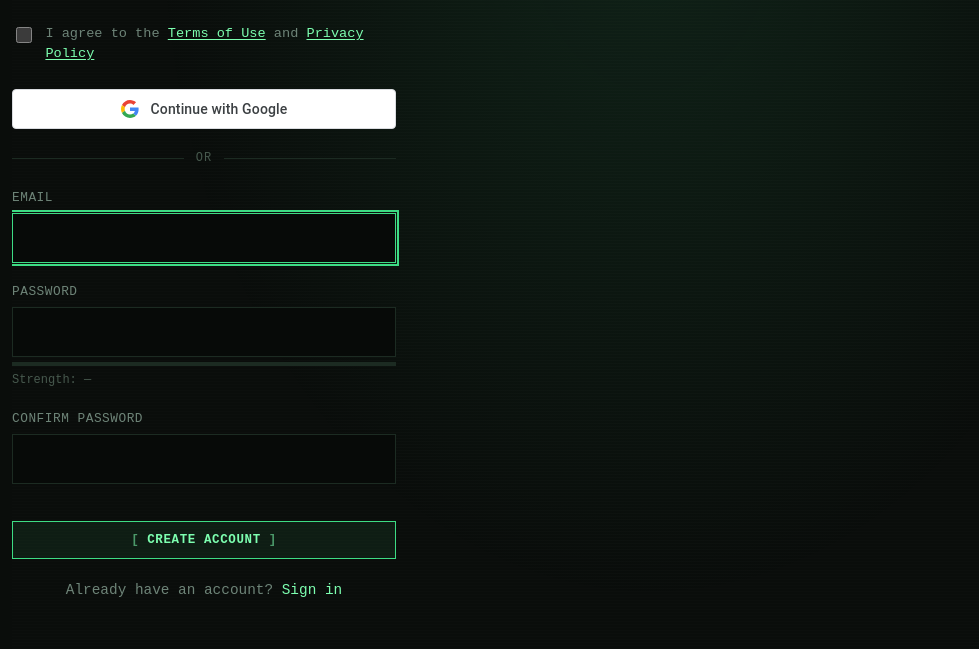
Test: AuthForm validation › blocks signup without terms acceptance
In the field labelled "Email": coordinates (204, 238) [12,213,396,262], type "user@example.com"
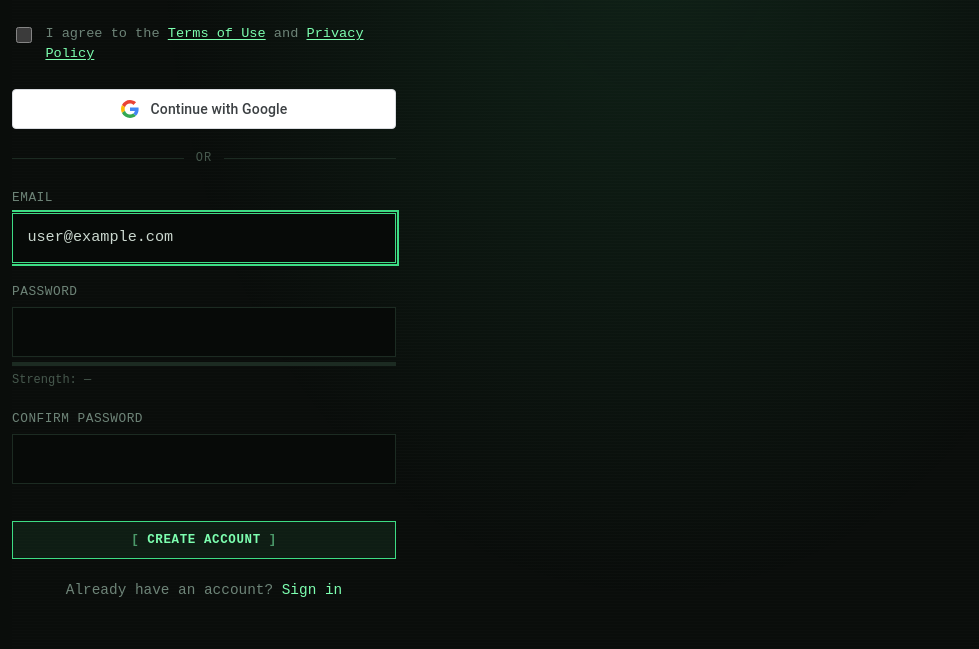
In the password field labelled "Password": coordinates (204, 332) [12,307,396,357], type "GoodPass1"
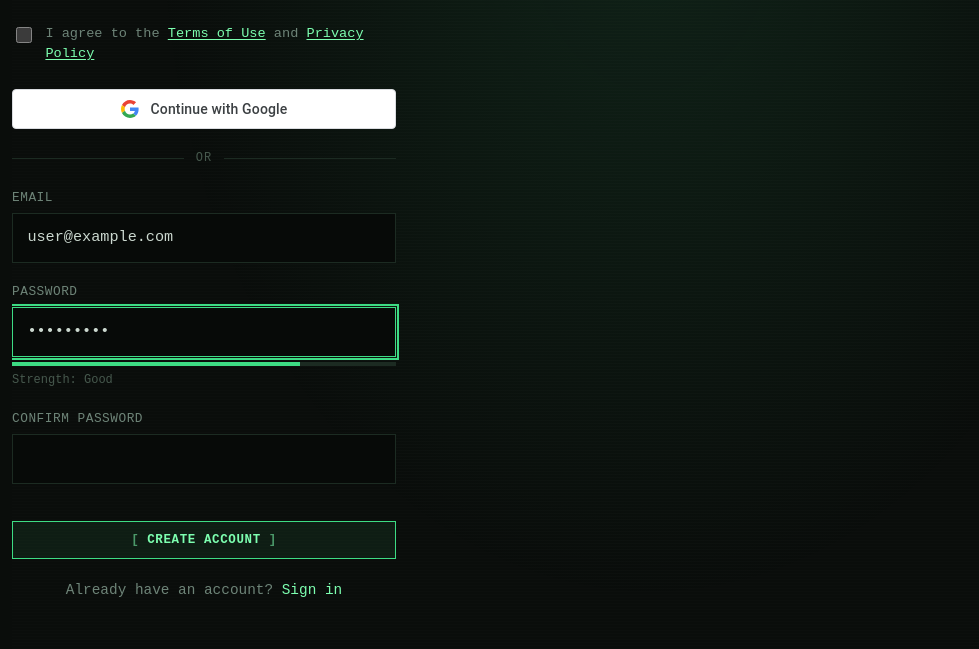
In the password field labelled "Confirm password": coordinates (204, 459) [12,434,396,484], type "GoodPass1"
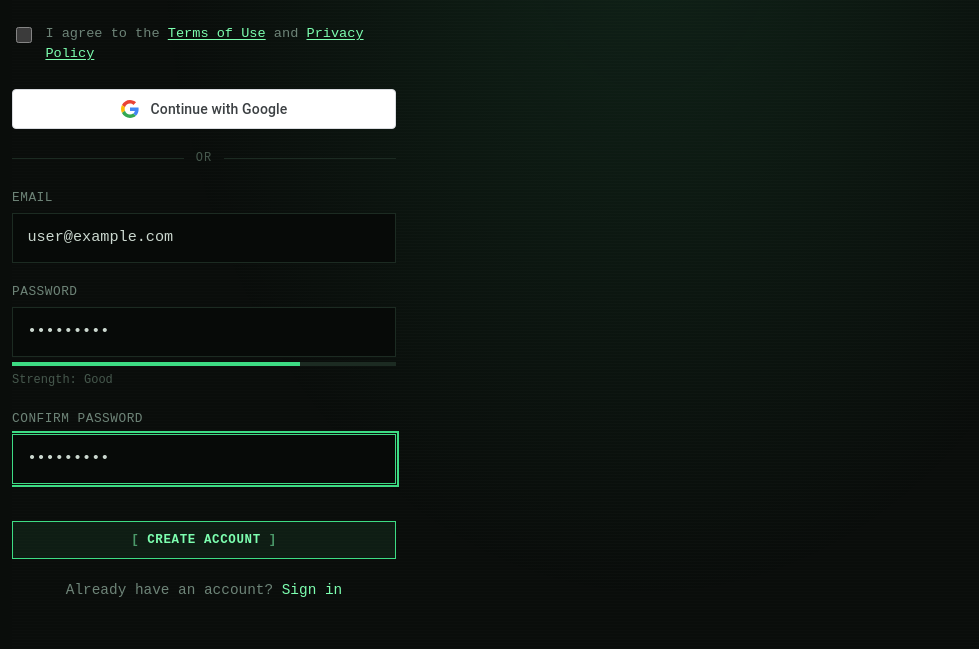
Click the button "Create account": coordinates (204, 540) [12,521,396,559]
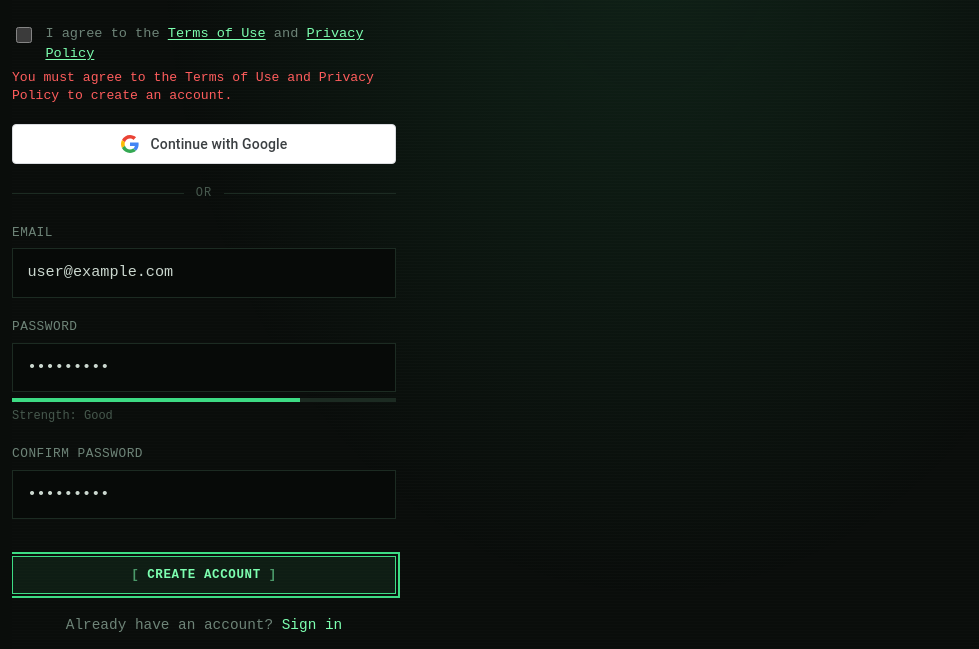
Check: the text "You must agree to the Terms of Use and Privacy Policy to create an account." is shown, box [12,69,396,104]
